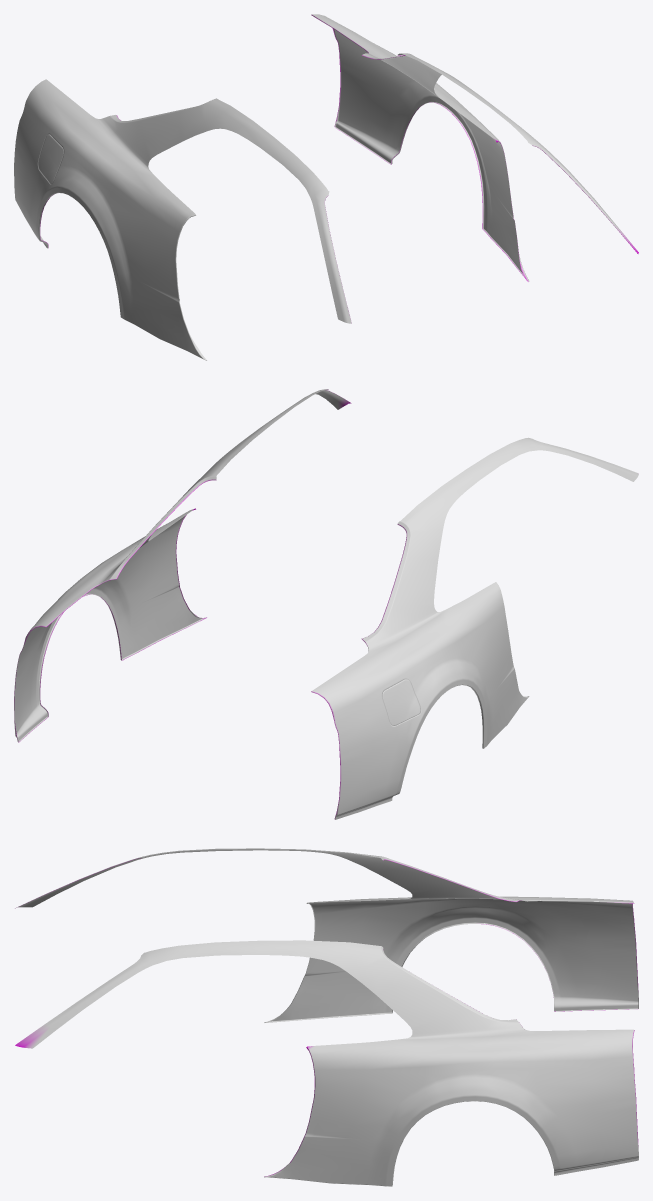
Rendered from Car_Nissan_SkylineGTRVspecR34_1999_FendersR_SetF.fbx.
3 views of the same model, one above another, from view 1: azimuth 30°, elevation 25°; view 2: azimuth 150°, elevation 25°; view 3: azimuth 270°, elevation 25° (orthographic). The views are drawn at different scales.
Visible parts, largest first — view 1: FendersR 6; view 2: FendersR 6; view 3: FendersR 6.
Part boxes in pixels (<box>): FendersR 6: <box>14,14,638,360</box>; FendersR 6: <box>14,389,638,819</box>; FendersR 6: <box>15,848,638,1186</box>.
Size of the model in its own units: 1.89 by 1.02 by 2.8.
